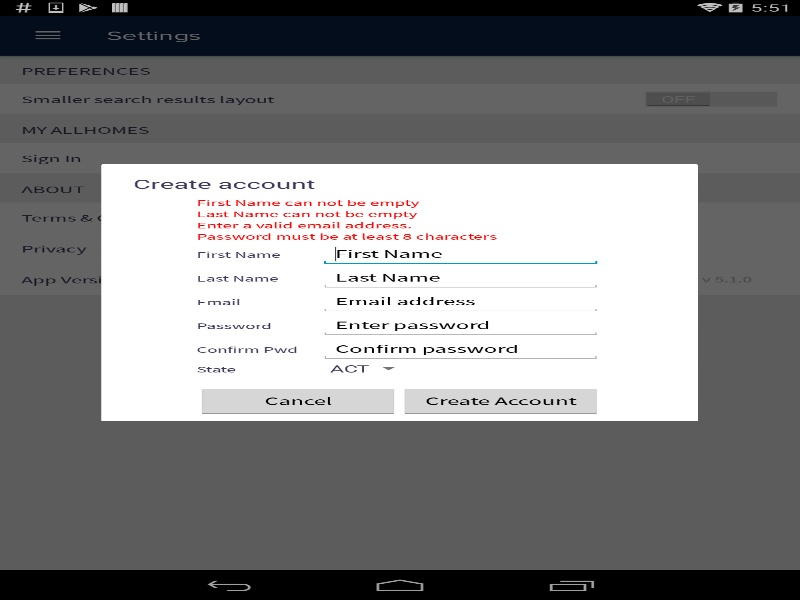Button: (196, 386, 399, 416), (399, 386, 602, 416)
Input: (319, 242, 602, 266), (319, 266, 602, 290), (319, 313, 602, 337), (319, 337, 602, 361), (319, 290, 602, 313)
